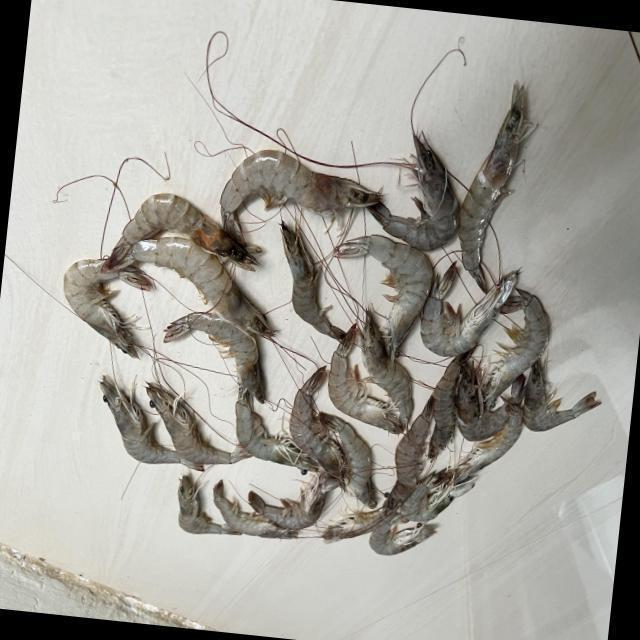shrimp: (129, 237, 275, 339), (459, 81, 526, 292), (220, 149, 382, 229), (334, 234, 434, 361), (101, 193, 258, 272), (369, 132, 461, 251), (100, 376, 203, 472), (421, 262, 520, 357), (164, 313, 266, 404), (63, 259, 151, 358), (146, 384, 252, 465), (329, 324, 404, 434), (484, 290, 552, 408), (281, 221, 346, 341), (236, 389, 318, 472), (290, 366, 345, 480), (361, 311, 414, 429), (456, 394, 525, 484), (384, 397, 435, 511), (524, 359, 603, 432), (320, 414, 378, 509), (429, 347, 476, 462), (249, 472, 341, 530), (214, 480, 299, 540), (457, 361, 509, 442), (400, 471, 476, 523), (178, 476, 241, 536), (369, 513, 437, 555), (322, 508, 398, 544)
